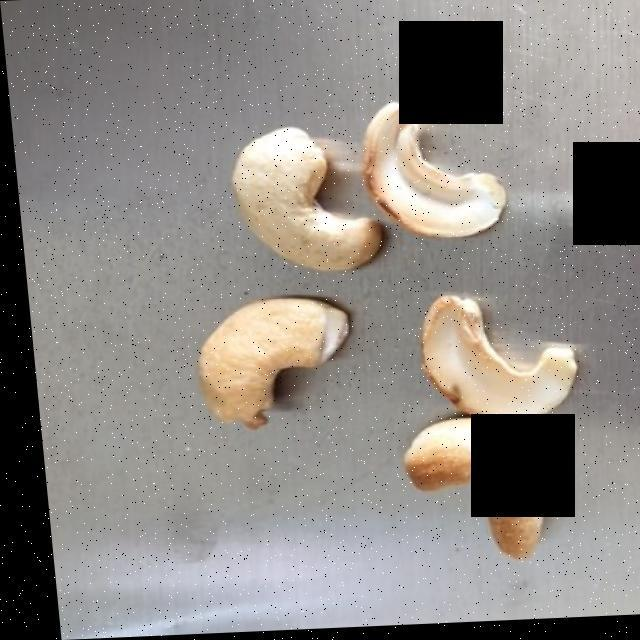cashew-nut: (197, 94, 563, 563)
